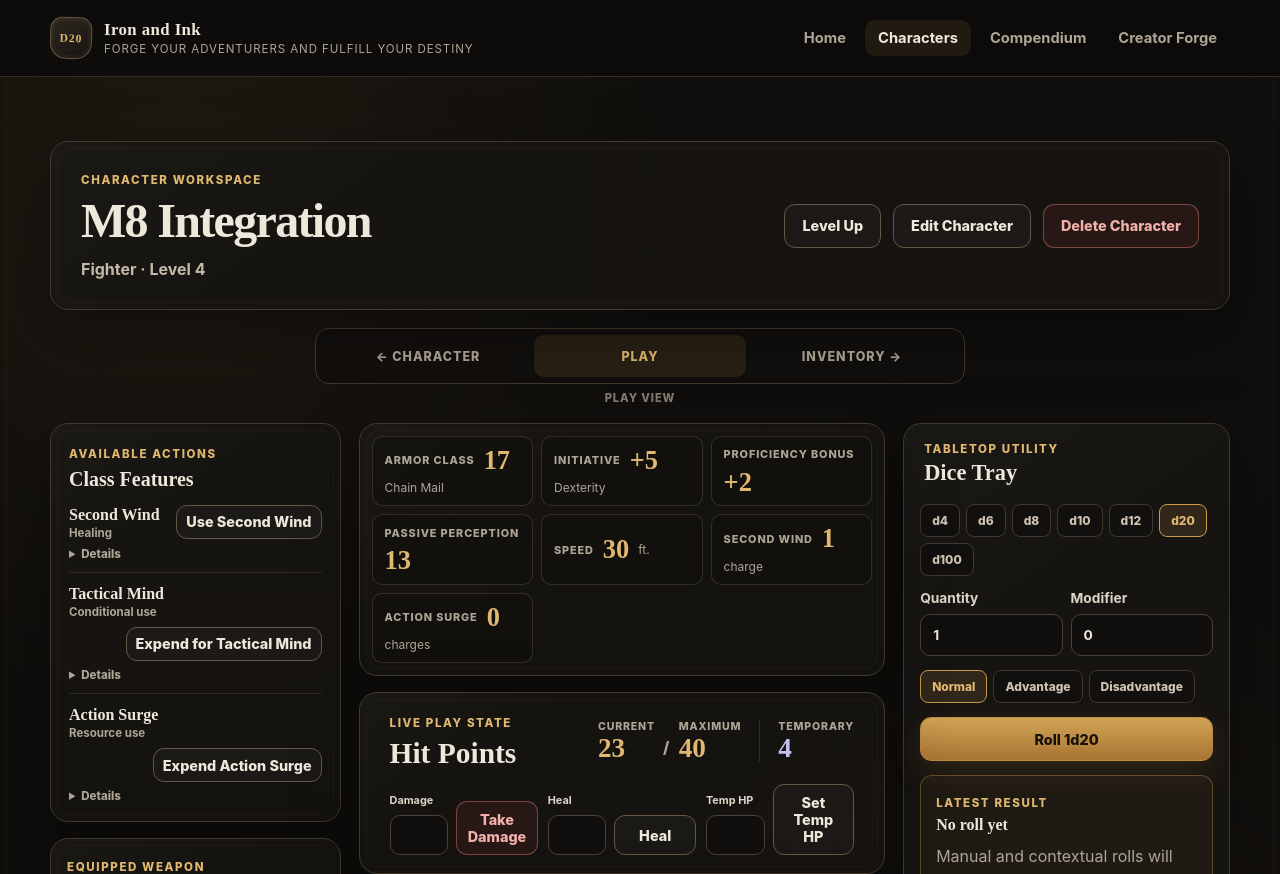
Scenario: Milestone 8 bounded end-to-end integration › combines M7 origin, Background Origin Feat, manual structured Feats, combat derivation, persistence, Inventory, and play-state preservation
Check: the text "Armor Class" is shown, box [384, 453, 475, 467]
Check: the text "17" is shown, box [484, 447, 510, 473]
What coordinates should you click on to do the following:
click the link "← CHARACTER"
I would click on:
 (428, 356)
Its box is [376, 348, 480, 364].
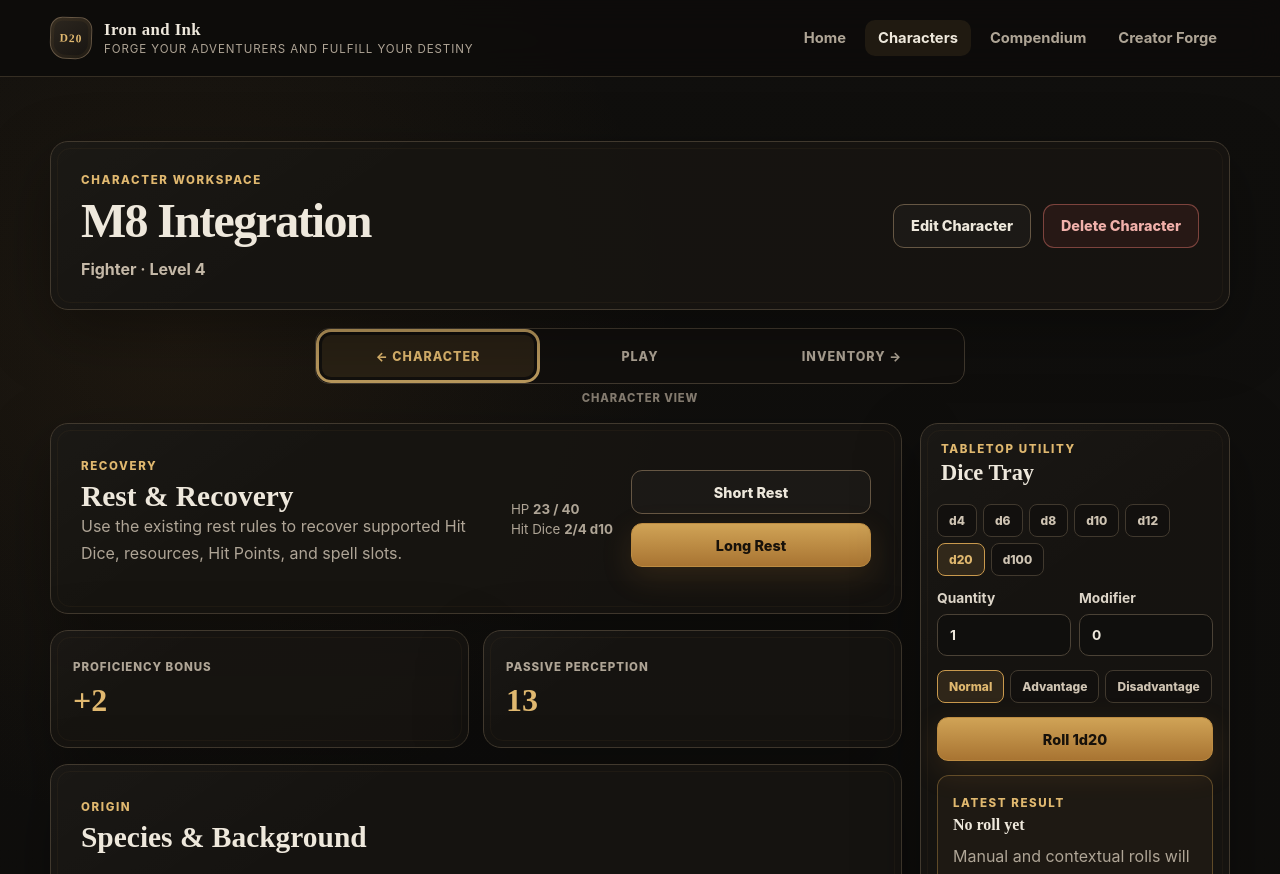
What coordinates should you click on to do the following:
click the link "INVENTORY →"
I would click on:
 (852, 356)
Its box is [802, 348, 902, 364].
(page scrolled)
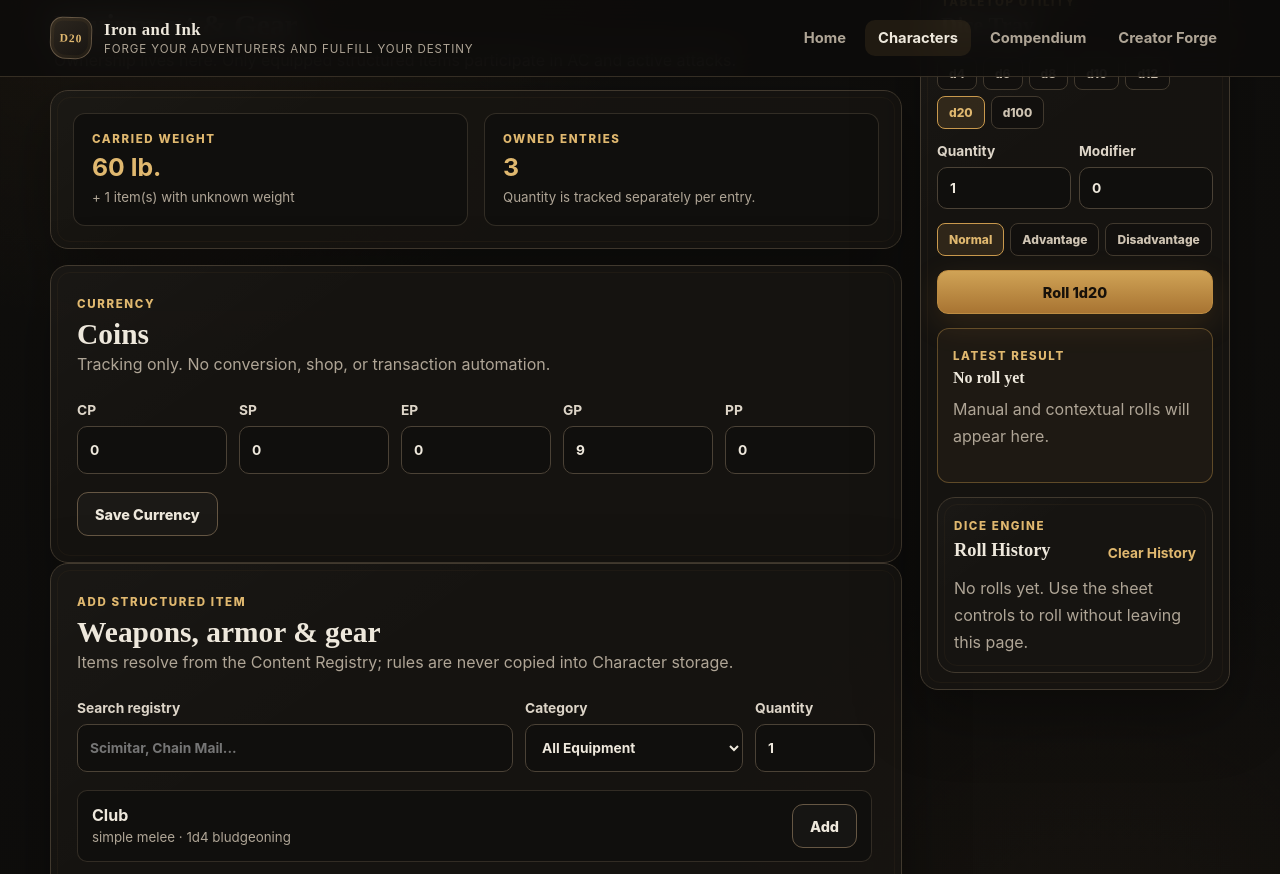
Check: the number field labelled "GP" holds "9", box [563, 426, 713, 474]
